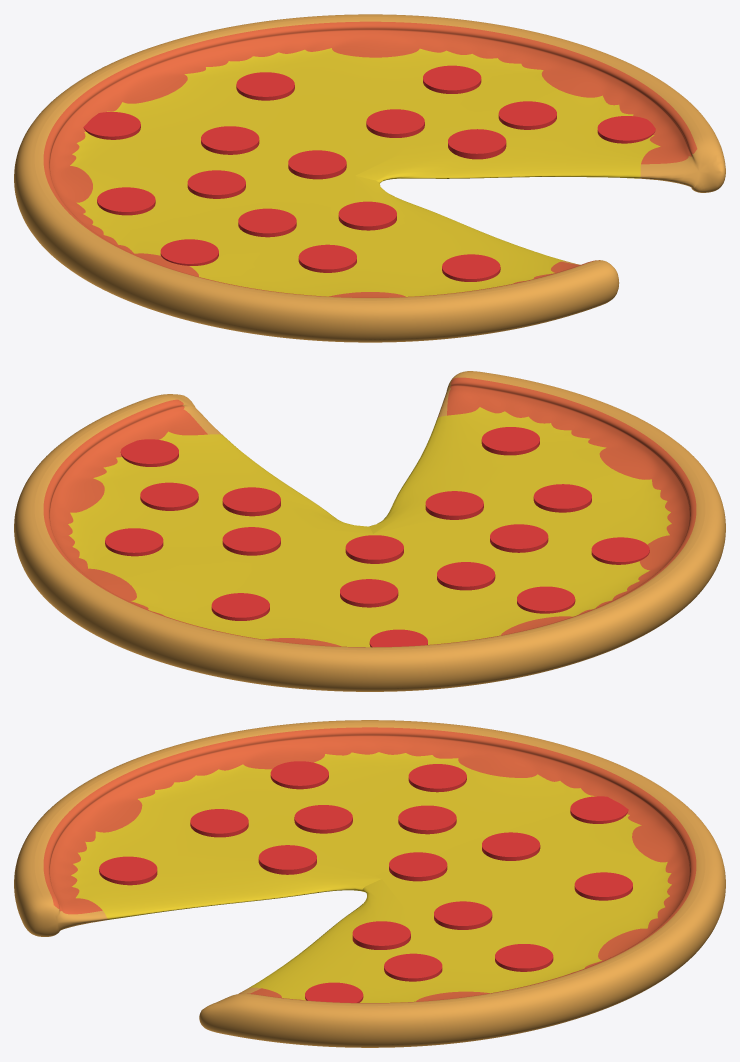
Rendered from PizzaNormal.fbx.
3 views of the same model, one above another, from view 1: azimuth 30°, elevation 25°; view 2: azimuth 150°, elevation 25°; view 3: azimuth 270°, elevation 25° (orthographic).
Parts seen in each view (by area): view 1: PizzaNormal; view 2: PizzaNormal; view 3: PizzaNormal.
Part boxes in pixels (x1,y1,x2,y2): PizzaNormal: [14, 14, 725, 342]; PizzaNormal: [14, 371, 725, 691]; PizzaNormal: [14, 720, 725, 1047].
Bounding box in the file's own units: 90.44 × 5.48 × 90.44.
